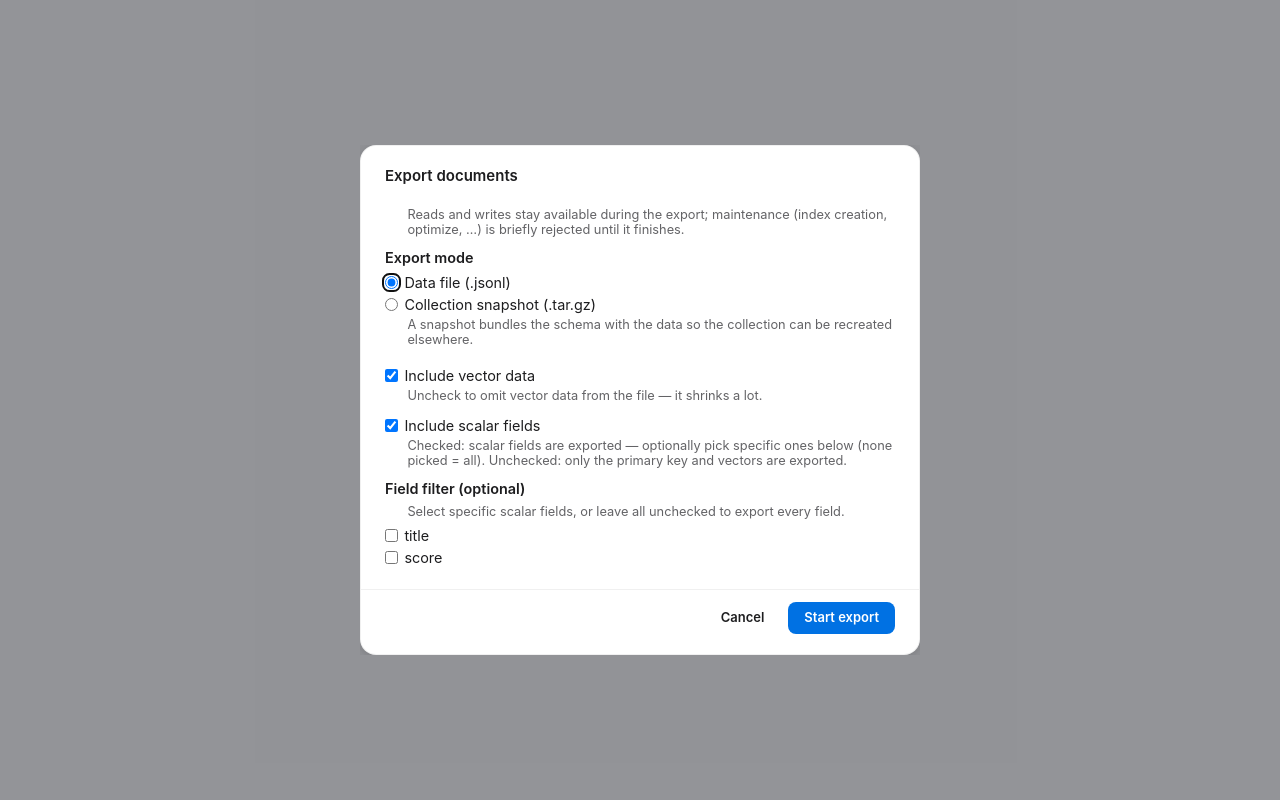
it: ExportDocumentsDialog › restores trimming choices when switching back to data mode
This screenshot has width=1280, height=800.
Click the checkbox with test id "zv-export-include-vector": (392, 375) [385,369,398,382]
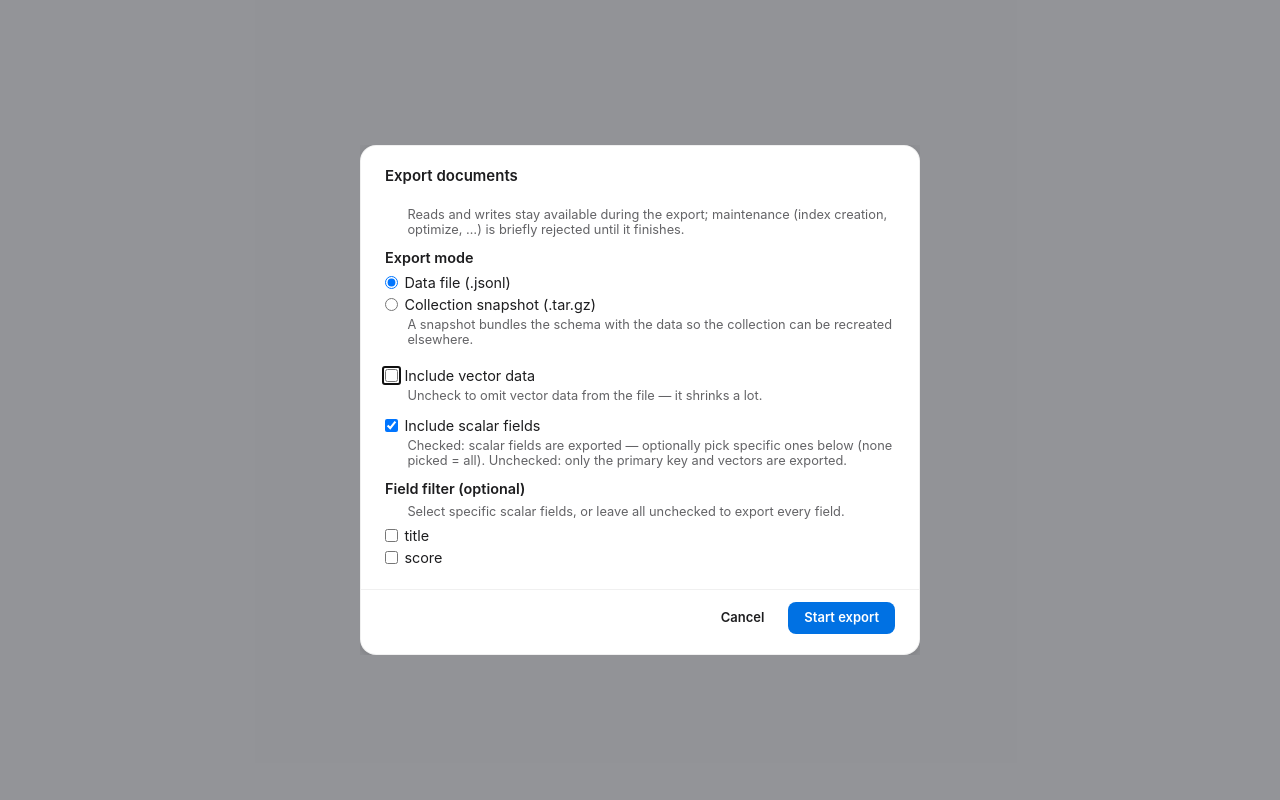
Click the radio button with test id "zv-export-mode-snapshot": (392, 304) [385,298,398,311]
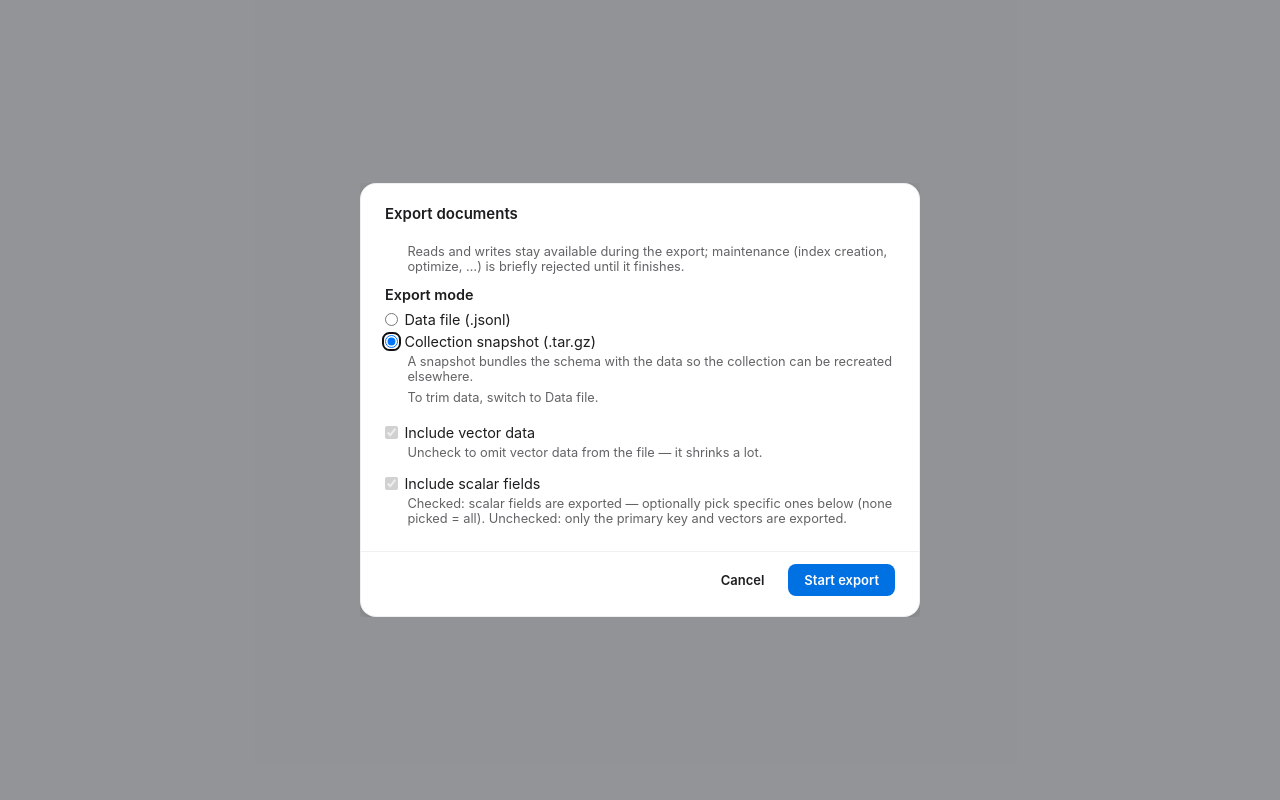
Click the radio button labelled "Data file (.jsonl)": (392, 320) [385,313,398,326]
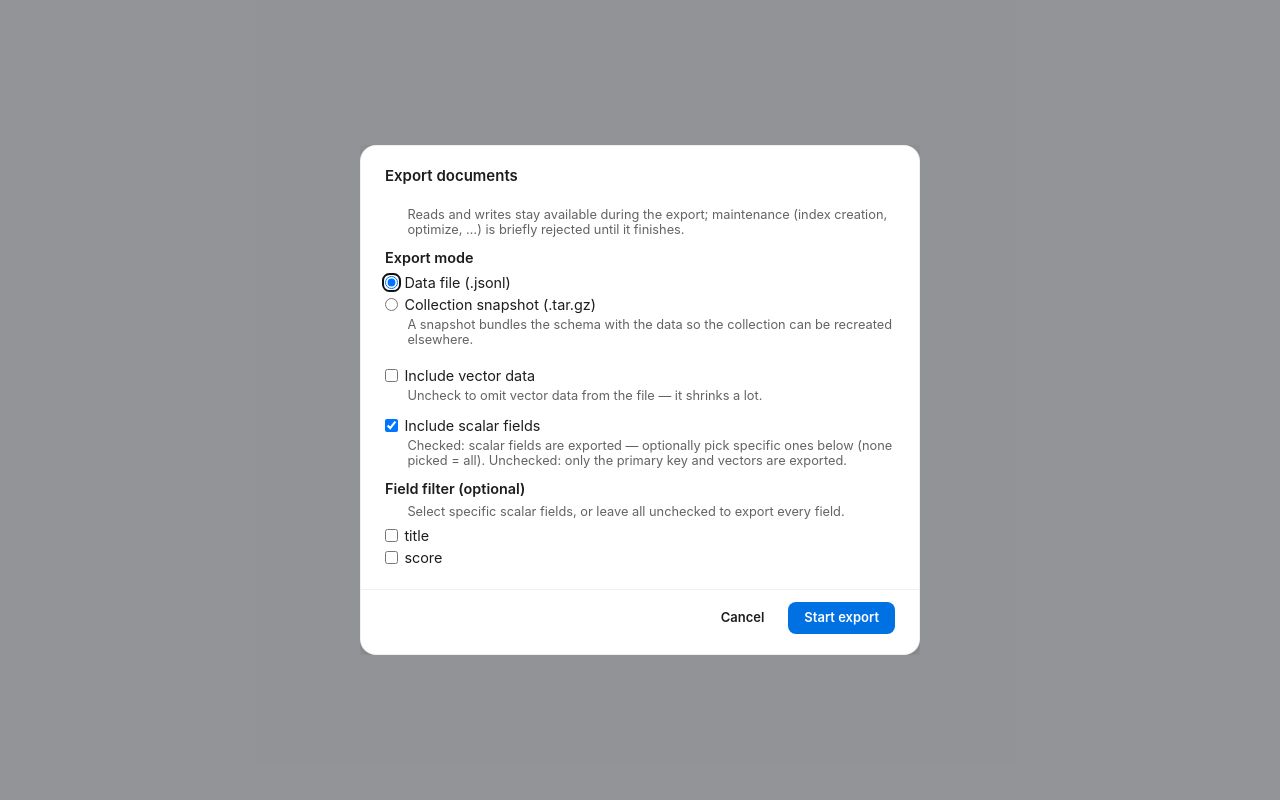
Expected: the checkbox with test id "zv-export-include-vector" is not checked, [385,369,398,382]
Expected: the checkbox with test id "zv-export-include-vector" is enabled, [385,369,398,382]
